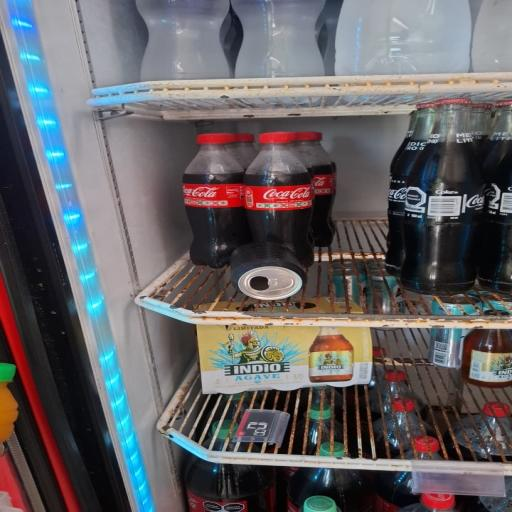LATA: (218, 235, 328, 308)
